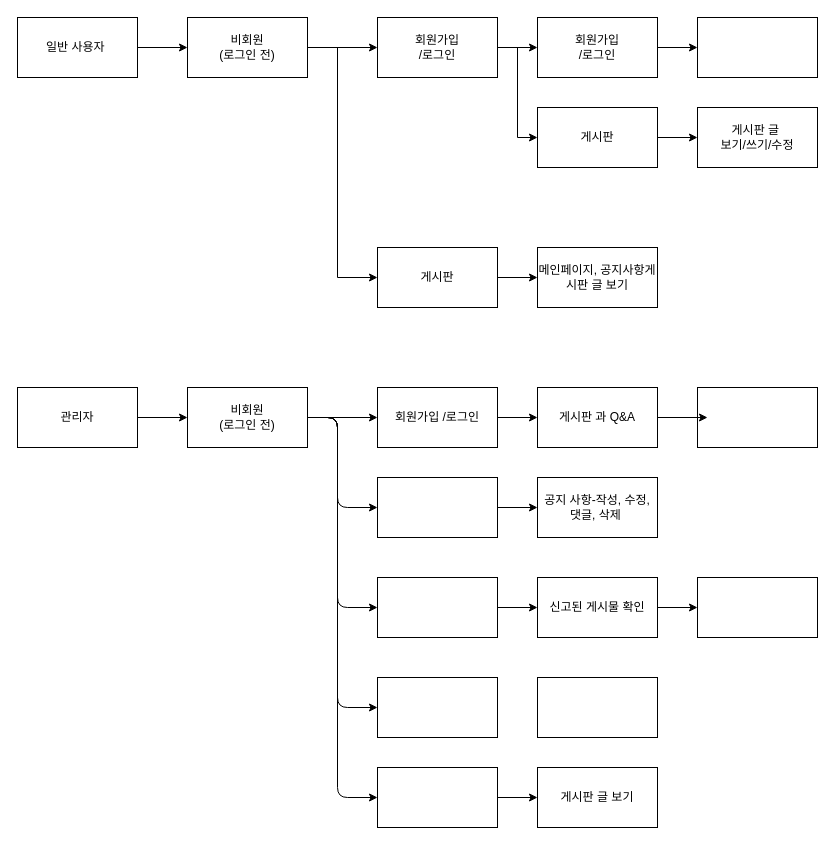
The diagram is 835 pixels wide and 845 high, and some of its shapes have lost their labels. The centre of each missing label's shape, as x and y in pixels:
게시물 삭제: the point at 757,607
게시판 글 추천/신고/등록: the point at 757,47
게시판, Q&A 신고 수정 공지사항: the point at 757,417
공지사항: the point at 437,507
비회원로그인: the point at 437,797
회원: the point at 437,707
회원관리: the point at 597,707
